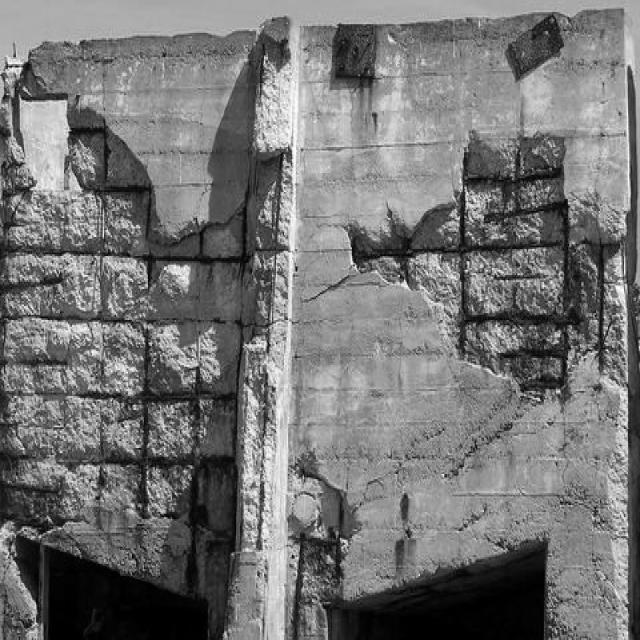Spalling: (0, 55, 239, 586), (334, 123, 639, 440), (247, 141, 295, 565), (301, 491, 349, 640)
